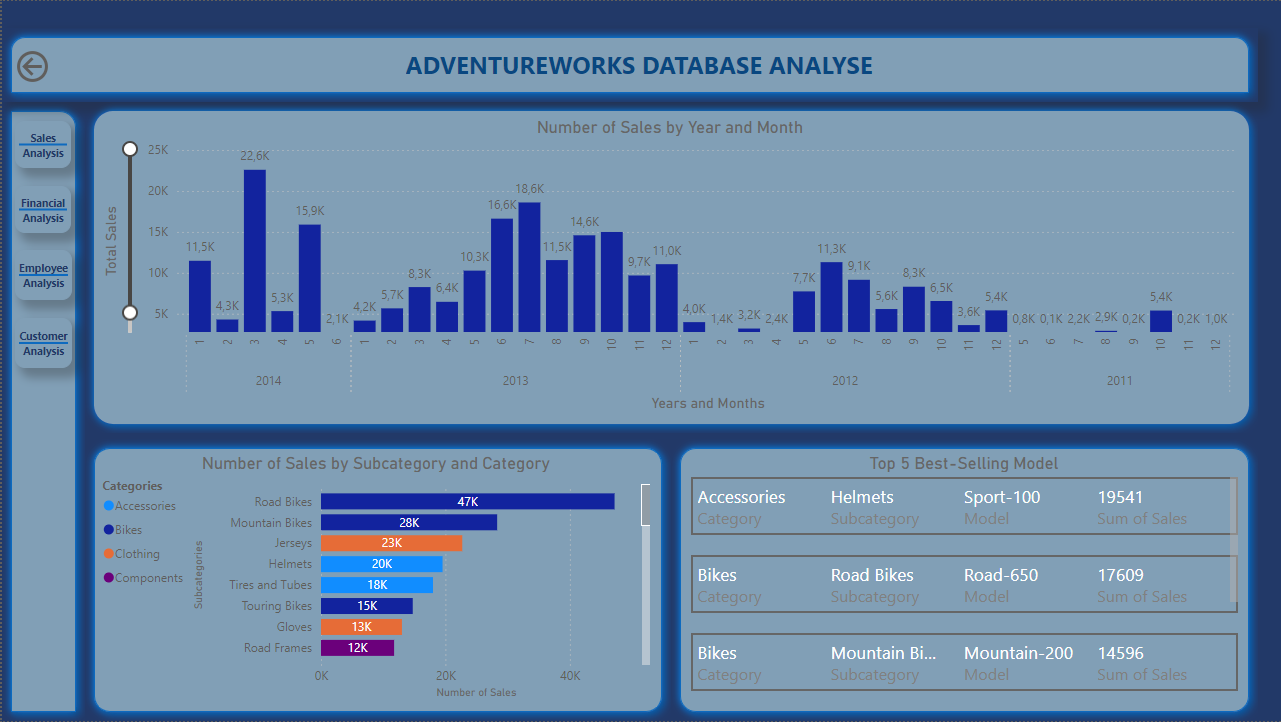

The page's visual inventory and layout, read from the dashboard file:
{"tool":"powerbi","page":{"name":"SalesAnalysis","canvas":[1280,720],"ordinal":0},"visuals":[{"type":"shape","box":[0,101,82.7,619.2],"z":0},{"type":"shape","box":[0,26.9,1255.8,74],"z":1000},{"type":"shape","box":[82.7,438.5,586.5,281.7],"z":2000},{"type":"shape","box":[669.2,438.5,586.5,281.7],"z":3000},{"type":"barChart","title":"Number of Sales by Subcategory and Category","fields":{"Y":["Sum(AltkategoriyeGöreSatışlar.numberofsales)"],"Category":["AltkategoriyeGöreSatışlar.subcategory"],"Series":["AltkategoriyeGöreSatışlar.category"]},"box":[96.2,451.9,556.7,250],"z":4000},{"type":"shape","box":[82.7,101,1173.1,330.8],"z":5000},{"type":"multiRowCard","title":"Top 5 Best-Selling Model","fields":{"Values":["EnÇokSatılan5Model.category","EnÇokSatılan5Model.subcategory","EnÇokSatılan5Model.model","Sum(EnÇokSatılan5Model.numberofsales)"]},"box":[683.7,451.9,557.7,250],"z":6000},{"type":"clusteredColumnChart","title":"Number of Sales by Year and Month","fields":{"Y":["Sum(Query1.sum)"],"Category":["Query1.years","Query1.months"]},"box":[96.2,116.3,1145.2,299],"z":7000},{"type":"textbox","box":[399,42.3,481.7,43.3],"z":8000},{"type":"actionButton","box":[9.6,45.2,100,40.4],"z":9000},{"type":"shape","box":[12.5,120.2,56.7,47.1],"z":10000},{"type":"shape","box":[12.5,184.6,56.7,47.1],"z":11000},{"type":"shape","box":[12.7,248.8,56.8,49.9],"z":12000},{"type":"shape","box":[12.7,317.3,56.8,49.9],"z":13000}]}

Visuals, with their boxes in screenshot pixels (x1, y1, x2, y2), scaled from the page's 1280x720 canvas onto the 1281x722 screenshot:
shape: rect(0, 101, 83, 721)
shape: rect(0, 27, 1257, 101)
shape: rect(83, 440, 670, 721)
shape: rect(670, 440, 1257, 721)
"Number of Sales by Subcategory and Category" barChart: rect(96, 453, 653, 704)
shape: rect(83, 101, 1257, 433)
"Top 5 Best-Selling Model" multiRowCard: rect(684, 453, 1242, 704)
"Number of Sales by Year and Month" clusteredColumnChart: rect(96, 117, 1242, 416)
textbox: rect(399, 42, 881, 86)
actionButton: rect(10, 45, 110, 86)
shape: rect(13, 121, 69, 168)
shape: rect(13, 185, 69, 232)
shape: rect(13, 249, 70, 300)
shape: rect(13, 318, 70, 368)
